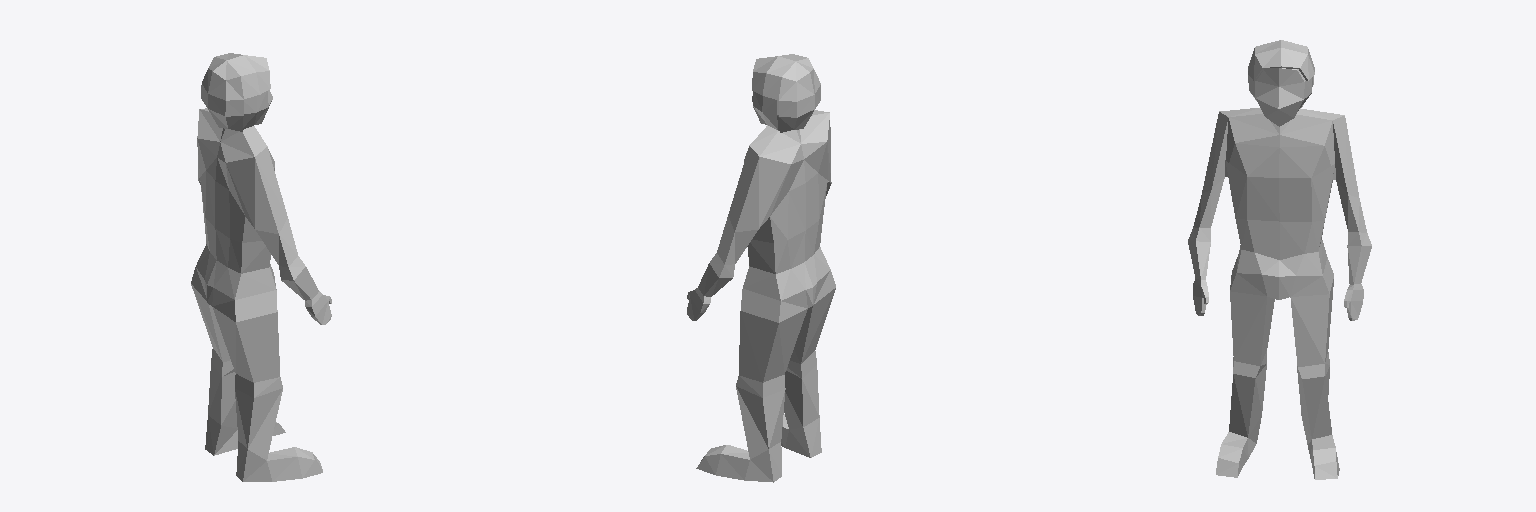
Rendered from char_direita_000.obj.
3 views of the same model, side by side, from view 1: azimuth 30°, elevation 25°; view 2: azimuth 150°, elevation 25°; view 3: azimuth 270°, elevation 25° (orthographic).
Visible parts, largest first — view 1: body_Cube.006, hair_Cube.005; view 2: body_Cube.006, hair_Cube.005; view 3: body_Cube.006, hair_Cube.005.
Part boxes in pixels (x1,y1,x2,y2): body_Cube.006: (191,90,331,481); hair_Cube.005: (201,53,270,131); body_Cube.006: (687,91,835,482); hair_Cube.005: (752,54,820,132); body_Cube.006: (1188,68,1371,479); hair_Cube.005: (1248,40,1314,107).
Size of the model in its own units: 0.5279 by 2.14 by 0.882.